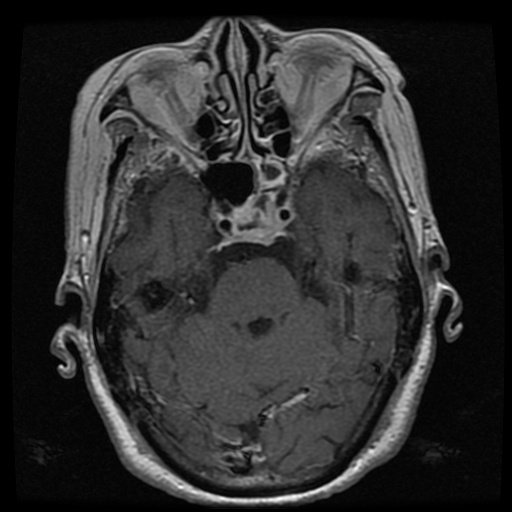pituitary: (232, 196, 279, 245)
